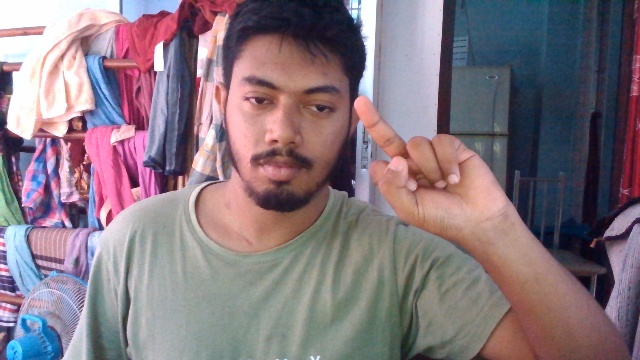fucku: (347, 94, 513, 234)
